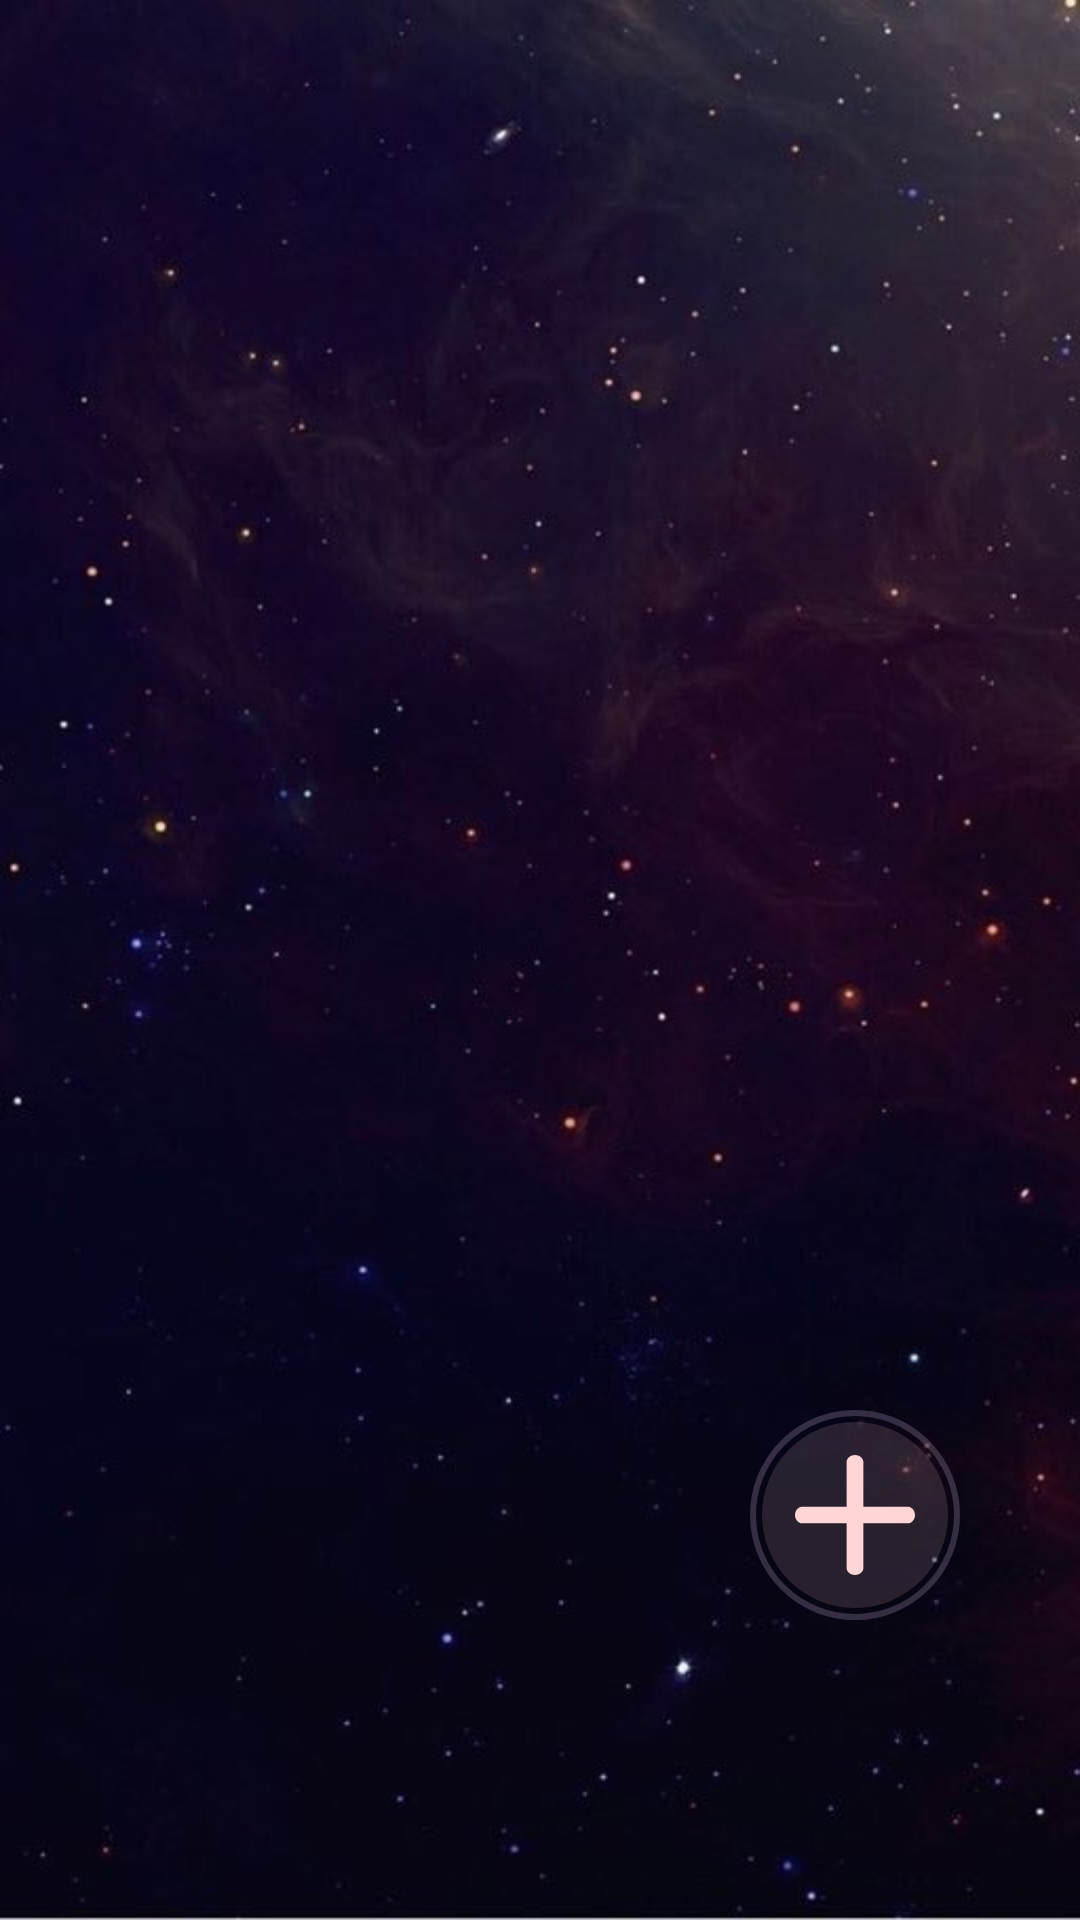

Icons on this 1080px x 1920px Android screen, each with its box as Rect(x1, y1, x2, y2):
plus: Rect(750, 1410, 960, 1620)
